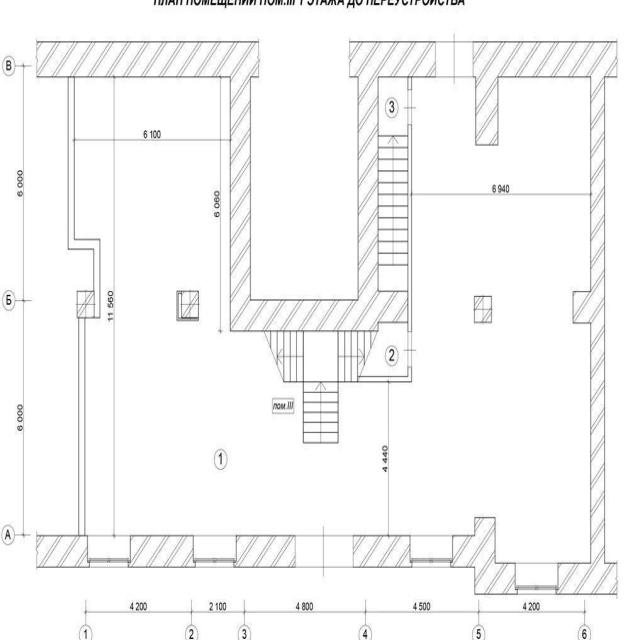Doors: (295, 522, 354, 582), (434, 31, 474, 85), (400, 331, 417, 368), (402, 88, 418, 125)
LBwalls: (473, 39, 618, 562), (229, 76, 408, 333), (35, 40, 259, 78), (453, 517, 515, 597), (350, 41, 434, 78), (558, 560, 619, 596), (130, 535, 194, 569), (236, 535, 295, 569), (353, 536, 410, 569), (35, 535, 88, 569), (177, 290, 199, 322), (474, 295, 493, 323), (76, 290, 94, 319)
Offices: (76, 77, 590, 562)
Stairs: (260, 322, 407, 444), (379, 78, 407, 291)
Walls: (68, 77, 101, 320), (78, 317, 86, 536), (407, 124, 412, 333), (358, 367, 413, 383), (407, 76, 412, 90)
Windows: (410, 535, 453, 568), (515, 562, 558, 595), (194, 536, 236, 568), (88, 536, 130, 568)
